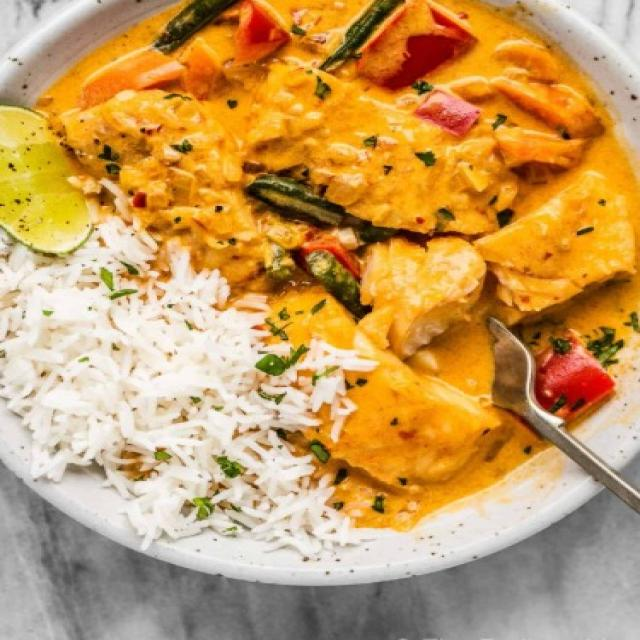FISH CURRY: (48, 0, 638, 484)
RICE: (0, 218, 375, 549)
